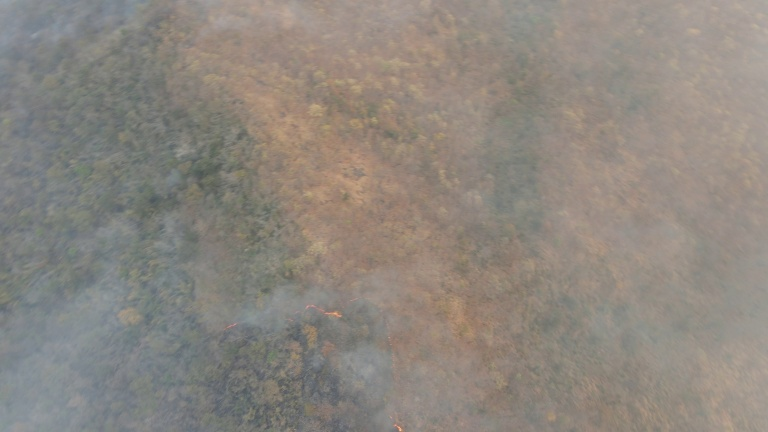fire: (357, 294, 410, 432), (289, 295, 342, 327), (213, 320, 246, 337)
smoke: (459, 2, 768, 432), (1, 209, 185, 432), (210, 279, 460, 432)
